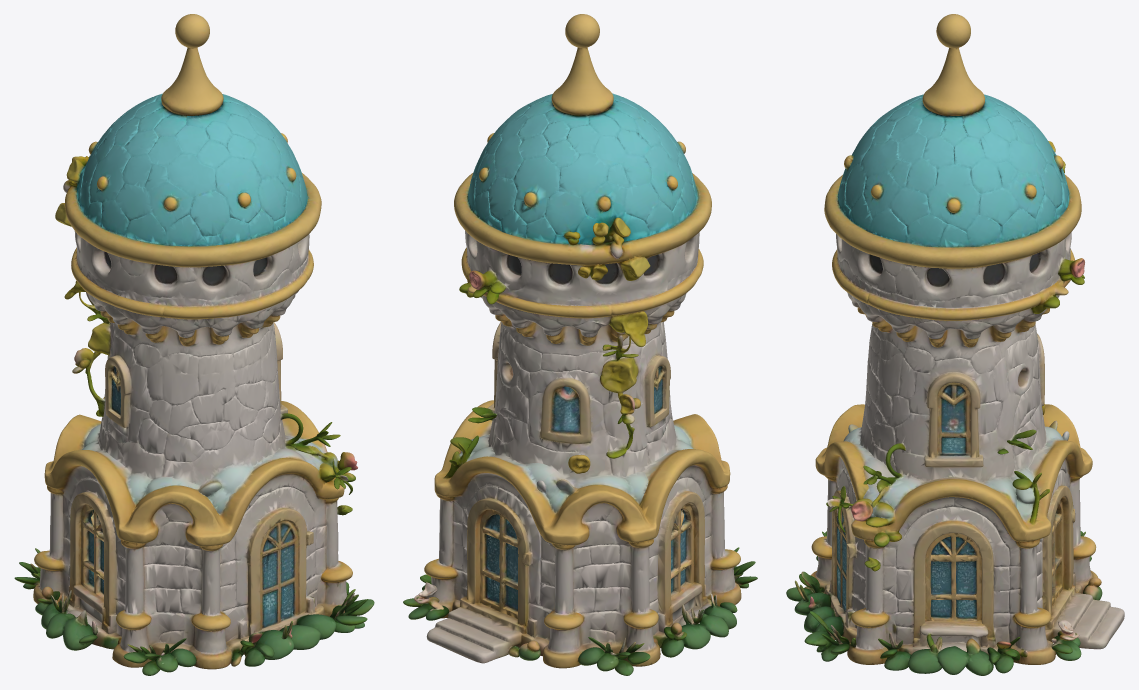
The model's file is struct_tower.glb.
3 views of the same model, side by side, from view 1: azimuth 30°, elevation 25°; view 2: azimuth 150°, elevation 25°; view 3: azimuth 270°, elevation 25° (orthographic).
Parts seen in each view (by area): view 1: tripo_node_b1238bc9-906f-439e-9ac1-cf7377010582; view 2: tripo_node_b1238bc9-906f-439e-9ac1-cf7377010582; view 3: tripo_node_b1238bc9-906f-439e-9ac1-cf7377010582.
Part boxes in pixels (x1=…): tripo_node_b1238bc9-906f-439e-9ac1-cf7377010582: x1=14, y1=14, x2=374, y2=675; tripo_node_b1238bc9-906f-439e-9ac1-cf7377010582: x1=403, y1=14, x2=757, y2=675; tripo_node_b1238bc9-906f-439e-9ac1-cf7377010582: x1=786, y1=14, x2=1124, y2=675.
Size of the model in its own units: 0.5068 by 1 by 0.5165.
Materials: 1 (1 with a texture image).
